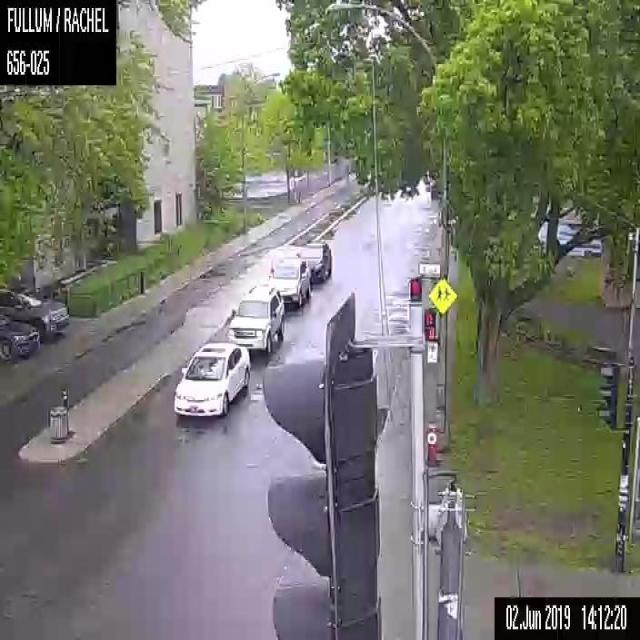vehicle: (173, 340, 250, 418), (227, 284, 284, 354), (0, 289, 69, 342), (267, 256, 311, 306), (0, 314, 39, 359), (295, 240, 332, 279), (425, 181, 440, 202)
